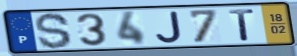3: (74, 12, 107, 48)
4: (115, 9, 148, 48)
7: (188, 8, 220, 44)
J: (154, 10, 184, 45)
S: (33, 12, 74, 51)
T: (227, 8, 257, 42)
